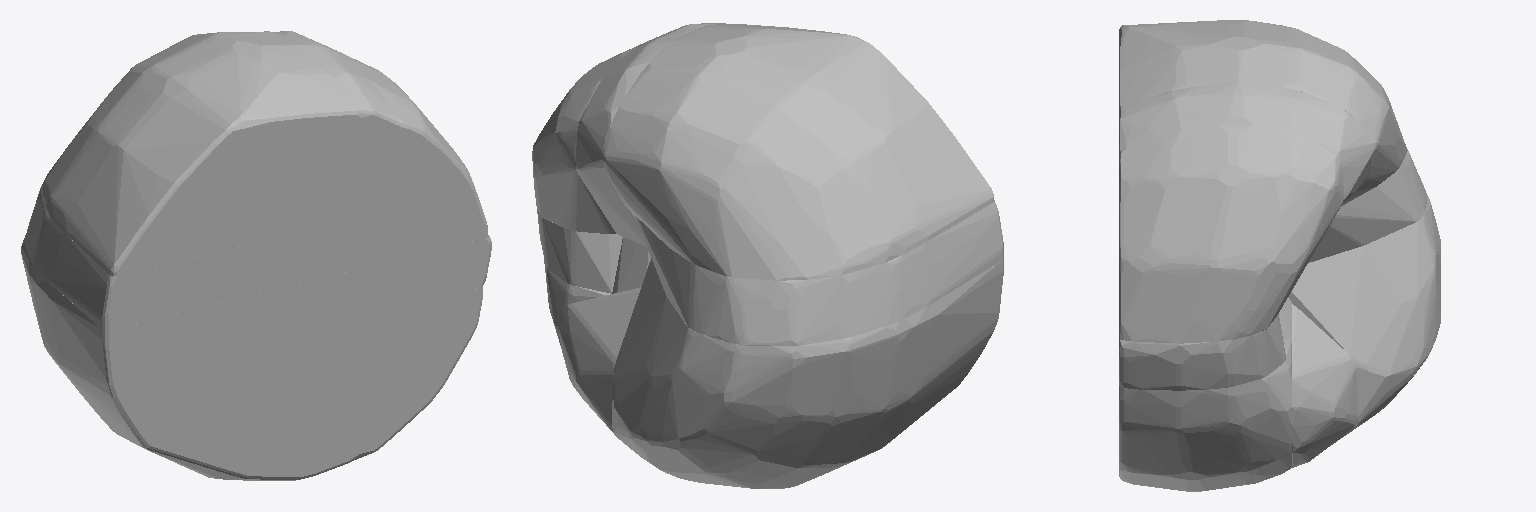
robot.urdf — root:
<robot name="root">
  <link name="link_coacd_convex_piece_0">
    <inertial>
      <origin xyz="0 0 0" rpy="0 0 0"/>
      <inertia ixx="1.13E-01" ixy="2.76E-02" ixz="-8.01E-03" iyy="9.89E-02" iyz="1.91E-02" izz="1.39E-01"/>
    </inertial>
    <visual>
      <origin xyz="0 0 0" rpy="0 0 0"/>
      <geometry>
        <mesh filename="coacd_convex_piece_0.obj" scale="1.0000E+00 1.0000E+00 1.0000E+00"/>
      </geometry>
      <material name="">
        <color rgba="7.50E-01 7.50E-01 7.50E-01 1"/>
      </material>
    </visual>
    <collision>
      <origin xyz="0 0 0" rpy="0 0 0"/>
      <geometry>
        <mesh filename="coacd_convex_piece_0.obj" scale="1.0000E+00 1.0000E+00 1.0000E+00"/>
      </geometry>
    </collision>
  </link>
  <link name="link_coacd_convex_piece_1">
    <inertial>
      <origin xyz="0 0 0" rpy="0 0 0"/>
      <inertia ixx="2.16E-03" ixy="-1.82E-03" ixz="-4.35E-04" iyy="1.66E-03" iyz="-5.99E-04" izz="3.92E-03"/>
    </inertial>
    <visual>
      <origin xyz="0 0 0" rpy="0 0 0"/>
      <geometry>
        <mesh filename="coacd_convex_piece_1.obj" scale="1.0000E+00 1.0000E+00 1.0000E+00"/>
      </geometry>
      <material name="">
        <color rgba="7.50E-01 7.50E-01 7.50E-01 1"/>
      </material>
    </visual>
    <collision>
      <origin xyz="0 0 0" rpy="0 0 0"/>
      <geometry>
        <mesh filename="coacd_convex_piece_1.obj" scale="1.0000E+00 1.0000E+00 1.0000E+00"/>
      </geometry>
    </collision>
  </link>
  <joint name="link_coacd_convex_piece_1_joint" type="fixed">
    <origin xyz="0 0 0" rpy="0 0 0"/>
    <parent link="link_coacd_convex_piece_0"/>
    <child link="link_coacd_convex_piece_1"/>
  </joint>
  <link name="link_coacd_convex_piece_2">
    <inertial>
      <origin xyz="0 0 0" rpy="0 0 0"/>
      <inertia ixx="1.59E-02" ixy="1.43E-02" ixz="1.22E-02" iyy="3.46E-02" iyz="-5.59E-03" izz="3.86E-02"/>
    </inertial>
    <visual>
      <origin xyz="0 0 0" rpy="0 0 0"/>
      <geometry>
        <mesh filename="coacd_convex_piece_2.obj" scale="1.0000E+00 1.0000E+00 1.0000E+00"/>
      </geometry>
      <material name="">
        <color rgba="7.50E-01 7.50E-01 7.50E-01 1"/>
      </material>
    </visual>
    <collision>
      <origin xyz="0 0 0" rpy="0 0 0"/>
      <geometry>
        <mesh filename="coacd_convex_piece_2.obj" scale="1.0000E+00 1.0000E+00 1.0000E+00"/>
      </geometry>
    </collision>
  </link>
  <joint name="link_coacd_convex_piece_2_joint" type="fixed">
    <origin xyz="0 0 0" rpy="0 0 0"/>
    <parent link="link_coacd_convex_piece_1"/>
    <child link="link_coacd_convex_piece_2"/>
  </joint>
  <link name="link_coacd_convex_piece_3">
    <inertial>
      <origin xyz="0 0 0" rpy="0 0 0"/>
      <inertia ixx="1.69E-02" ixy="8.77E-03" ixz="4.58E-03" iyy="1.15E-02" iyz="-4.48E-03" izz="2.03E-02"/>
    </inertial>
    <visual>
      <origin xyz="0 0 0" rpy="0 0 0"/>
      <geometry>
        <mesh filename="coacd_convex_piece_3.obj" scale="1.0000E+00 1.0000E+00 1.0000E+00"/>
      </geometry>
      <material name="">
        <color rgba="7.50E-01 7.50E-01 7.50E-01 1"/>
      </material>
    </visual>
    <collision>
      <origin xyz="0 0 0" rpy="0 0 0"/>
      <geometry>
        <mesh filename="coacd_convex_piece_3.obj" scale="1.0000E+00 1.0000E+00 1.0000E+00"/>
      </geometry>
    </collision>
  </link>
  <joint name="link_coacd_convex_piece_3_joint" type="fixed">
    <origin xyz="0 0 0" rpy="0 0 0"/>
    <parent link="link_coacd_convex_piece_2"/>
    <child link="link_coacd_convex_piece_3"/>
  </joint>
  <link name="link_coacd_convex_piece_4">
    <inertial>
      <origin xyz="0 0 0" rpy="0 0 0"/>
      <inertia ixx="1.44E-02" ixy="-6.20E-03" ixz="-3.51E-03" iyy="3.45E-02" iyz="-2.54E-03" izz="2.79E-02"/>
    </inertial>
    <visual>
      <origin xyz="0 0 0" rpy="0 0 0"/>
      <geometry>
        <mesh filename="coacd_convex_piece_4.obj" scale="1.0000E+00 1.0000E+00 1.0000E+00"/>
      </geometry>
      <material name="">
        <color rgba="7.50E-01 7.50E-01 7.50E-01 1"/>
      </material>
    </visual>
    <collision>
      <origin xyz="0 0 0" rpy="0 0 0"/>
      <geometry>
        <mesh filename="coacd_convex_piece_4.obj" scale="1.0000E+00 1.0000E+00 1.0000E+00"/>
      </geometry>
    </collision>
  </link>
  <joint name="link_coacd_convex_piece_4_joint" type="fixed">
    <origin xyz="0 0 0" rpy="0 0 0"/>
    <parent link="link_coacd_convex_piece_3"/>
    <child link="link_coacd_convex_piece_4"/>
  </joint>
  <link name="link_coacd_convex_piece_5">
    <inertial>
      <origin xyz="0 0 0" rpy="0 0 0"/>
      <inertia ixx="9.08E-02" ixy="-1.98E-02" ixz="-5.90E-03" iyy="4.30E-02" iyz="-1.91E-02" izz="9.83E-02"/>
    </inertial>
    <visual>
      <origin xyz="0 0 0" rpy="0 0 0"/>
      <geometry>
        <mesh filename="coacd_convex_piece_5.obj" scale="1.0000E+00 1.0000E+00 1.0000E+00"/>
      </geometry>
      <material name="">
        <color rgba="7.50E-01 7.50E-01 7.50E-01 1"/>
      </material>
    </visual>
    <collision>
      <origin xyz="0 0 0" rpy="0 0 0"/>
      <geometry>
        <mesh filename="coacd_convex_piece_5.obj" scale="1.0000E+00 1.0000E+00 1.0000E+00"/>
      </geometry>
    </collision>
  </link>
  <joint name="link_coacd_convex_piece_5_joint" type="fixed">
    <origin xyz="0 0 0" rpy="0 0 0"/>
    <parent link="link_coacd_convex_piece_4"/>
    <child link="link_coacd_convex_piece_5"/>
  </joint>
  <link name="link_coacd_convex_piece_6">
    <inertial>
      <origin xyz="0 0 0" rpy="0 0 0"/>
      <inertia ixx="2.78E-02" ixy="-1.85E-02" ixz="1.43E-02" iyy="3.31E-02" iyz="1.14E-02" izz="4.33E-02"/>
    </inertial>
    <visual>
      <origin xyz="0 0 0" rpy="0 0 0"/>
      <geometry>
        <mesh filename="coacd_convex_piece_6.obj" scale="1.0000E+00 1.0000E+00 1.0000E+00"/>
      </geometry>
      <material name="">
        <color rgba="7.50E-01 7.50E-01 7.50E-01 1"/>
      </material>
    </visual>
    <collision>
      <origin xyz="0 0 0" rpy="0 0 0"/>
      <geometry>
        <mesh filename="coacd_convex_piece_6.obj" scale="1.0000E+00 1.0000E+00 1.0000E+00"/>
      </geometry>
    </collision>
  </link>
  <joint name="link_coacd_convex_piece_6_joint" type="fixed">
    <origin xyz="0 0 0" rpy="0 0 0"/>
    <parent link="link_coacd_convex_piece_5"/>
    <child link="link_coacd_convex_piece_6"/>
  </joint>
  <link name="link_coacd_convex_piece_7">
    <inertial>
      <origin xyz="0 0 0" rpy="0 0 0"/>
      <inertia ixx="3.28E-03" ixy="-1.07E-03" ixz="6.21E-03" iyy="1.54E-02" iyz="5.23E-04" izz="1.25E-02"/>
    </inertial>
    <visual>
      <origin xyz="0 0 0" rpy="0 0 0"/>
      <geometry>
        <mesh filename="coacd_convex_piece_7.obj" scale="1.0000E+00 1.0000E+00 1.0000E+00"/>
      </geometry>
      <material name="">
        <color rgba="7.50E-01 7.50E-01 7.50E-01 1"/>
      </material>
    </visual>
    <collision>
      <origin xyz="0 0 0" rpy="0 0 0"/>
      <geometry>
        <mesh filename="coacd_convex_piece_7.obj" scale="1.0000E+00 1.0000E+00 1.0000E+00"/>
      </geometry>
    </collision>
  </link>
  <joint name="link_coacd_convex_piece_7_joint" type="fixed">
    <origin xyz="0 0 0" rpy="0 0 0"/>
    <parent link="link_coacd_convex_piece_6"/>
    <child link="link_coacd_convex_piece_7"/>
  </joint>
  <link name="link_coacd_convex_piece_8">
    <inertial>
      <origin xyz="0 0 0" rpy="0 0 0"/>
      <inertia ixx="1.19E-03" ixy="-2.42E-04" ixz="1.26E-03" iyy="2.48E-03" iyz="1.96E-04" izz="1.46E-03"/>
    </inertial>
    <visual>
      <origin xyz="0 0 0" rpy="0 0 0"/>
      <geometry>
        <mesh filename="coacd_convex_piece_8.obj" scale="1.0000E+00 1.0000E+00 1.0000E+00"/>
      </geometry>
      <material name="">
        <color rgba="7.50E-01 7.50E-01 7.50E-01 1"/>
      </material>
    </visual>
    <collision>
      <origin xyz="0 0 0" rpy="0 0 0"/>
      <geometry>
        <mesh filename="coacd_convex_piece_8.obj" scale="1.0000E+00 1.0000E+00 1.0000E+00"/>
      </geometry>
    </collision>
  </link>
  <joint name="link_coacd_convex_piece_8_joint" type="fixed">
    <origin xyz="0 0 0" rpy="0 0 0"/>
    <parent link="link_coacd_convex_piece_7"/>
    <child link="link_coacd_convex_piece_8"/>
  </joint>
</robot>

--- Facts derived from the render (not from the file) ---
3 views of the same robot in one strip: view 1: azimuth 30°, elevation 25°; view 2: azimuth 150°, elevation 25°; view 3: azimuth 270°, elevation 25° (orthographic).
Model root with 9 links and 8 joints (8 fixed), rooted at link_coacd_convex_piece_0, posed all joints at 0.
Visible links, largest first — view 1: link_coacd_convex_piece_5, link_coacd_convex_piece_0, link_coacd_convex_piece_4, link_coacd_convex_piece_6, link_coacd_convex_piece_2, link_coacd_convex_piece_3, link_coacd_convex_piece_7, link_coacd_convex_piece_8; view 2: link_coacd_convex_piece_5, link_coacd_convex_piece_0, link_coacd_convex_piece_4, link_coacd_convex_piece_2, link_coacd_convex_piece_3, link_coacd_convex_piece_1, link_coacd_convex_piece_7, link_coacd_convex_piece_8, link_coacd_convex_piece_6; view 3: link_coacd_convex_piece_2, link_coacd_convex_piece_5, link_coacd_convex_piece_0, link_coacd_convex_piece_6, link_coacd_convex_piece_3, link_coacd_convex_piece_7, link_coacd_convex_piece_1, link_coacd_convex_piece_4.
Link boxes in pixels (bbox=[...]): link_coacd_convex_piece_5: bbox=[41, 31, 360, 275]; link_coacd_convex_piece_0: bbox=[21, 235, 359, 480]; link_coacd_convex_piece_4: bbox=[25, 188, 360, 329]; link_coacd_convex_piece_6: bbox=[359, 286, 482, 457]; link_coacd_convex_piece_2: bbox=[340, 52, 488, 258]; link_coacd_convex_piece_3: bbox=[276, 31, 400, 268]; link_coacd_convex_piece_7: bbox=[396, 236, 491, 307]; link_coacd_convex_piece_8: bbox=[360, 260, 395, 316]; link_coacd_convex_piece_5: bbox=[603, 24, 993, 280]; link_coacd_convex_piece_0: bbox=[612, 258, 1003, 488]; link_coacd_convex_piece_4: bbox=[635, 200, 1003, 345]; link_coacd_convex_piece_2: bbox=[532, 40, 649, 233]; link_coacd_convex_piece_3: bbox=[576, 23, 725, 246]; link_coacd_convex_piece_1: bbox=[558, 287, 640, 432]; link_coacd_convex_piece_7: bbox=[537, 209, 622, 293]; link_coacd_convex_piece_8: bbox=[612, 237, 650, 293]; link_coacd_convex_piece_6: bbox=[544, 259, 610, 345]; link_coacd_convex_piece_2: bbox=[1119, 124, 1343, 343]; link_coacd_convex_piece_5: bbox=[1119, 20, 1407, 205]; link_coacd_convex_piece_0: bbox=[1289, 195, 1440, 444]; link_coacd_convex_piece_6: bbox=[1119, 338, 1291, 491]; link_coacd_convex_piece_3: bbox=[1119, 82, 1374, 201]; link_coacd_convex_piece_7: bbox=[1119, 314, 1285, 390]; link_coacd_convex_piece_1: bbox=[1292, 304, 1358, 467]; link_coacd_convex_piece_4: bbox=[1308, 149, 1426, 262].
Bounding box of the posed robot: 1.62 × 1.09 × 1.59 m (x, y, z).
Meshes: 9 distinct files referenced, 9 mesh visuals loaded (9 OBJ).
